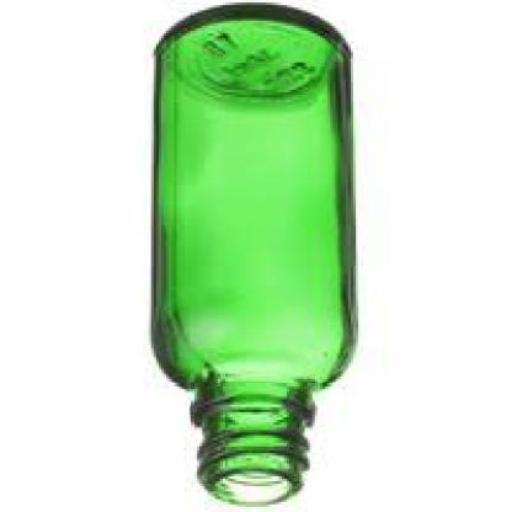glass: (156, 8, 361, 510)
